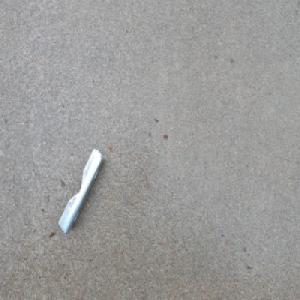ClampPart: (57, 147, 105, 235)
